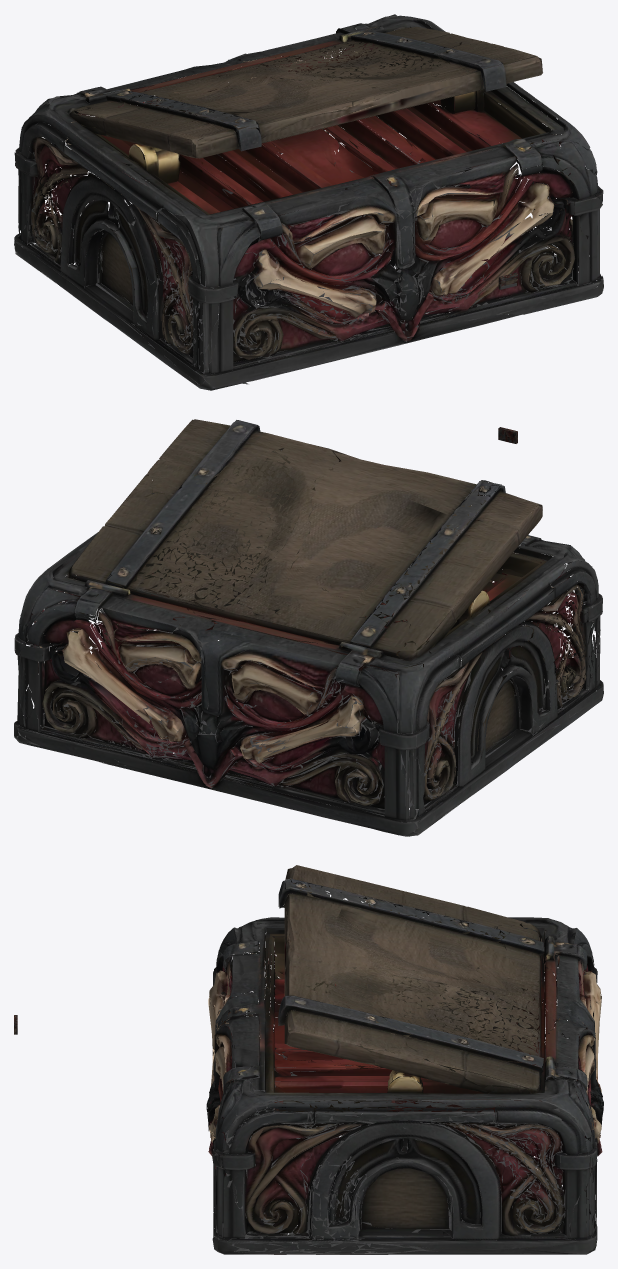
Rendered from secret_floor_confessional_cache.glb.
The picture shows the model from 3 angles, top to bottom: view 1: azimuth 30°, elevation 25°; view 2: azimuth 150°, elevation 25°; view 3: azimuth 270°, elevation 25°; orthographic projection. The views are drawn at different scales.
Visible parts, largest first — view 1: node_0; view 2: node_0; view 3: node_0.
Boxes of the visible parts, bbox=[...] form: node_0: bbox=[14, 14, 603, 390]; node_0: bbox=[14, 419, 603, 836]; node_0: bbox=[206, 865, 603, 1254].
Size of the model in its own units: 0.8732 by 0.4611 by 1.13.
Materials: 1 (1 with a texture image).
